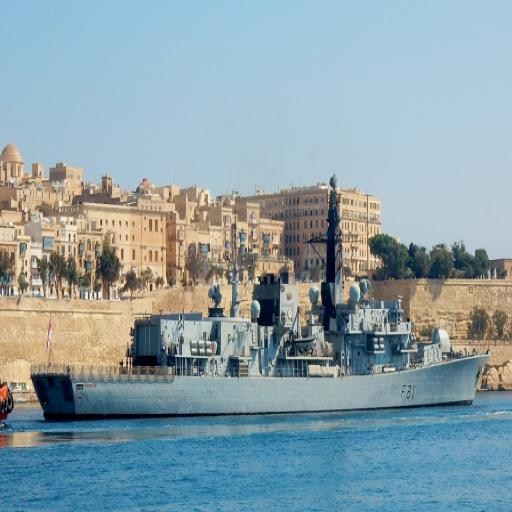Fragata: (29, 173, 493, 428)
